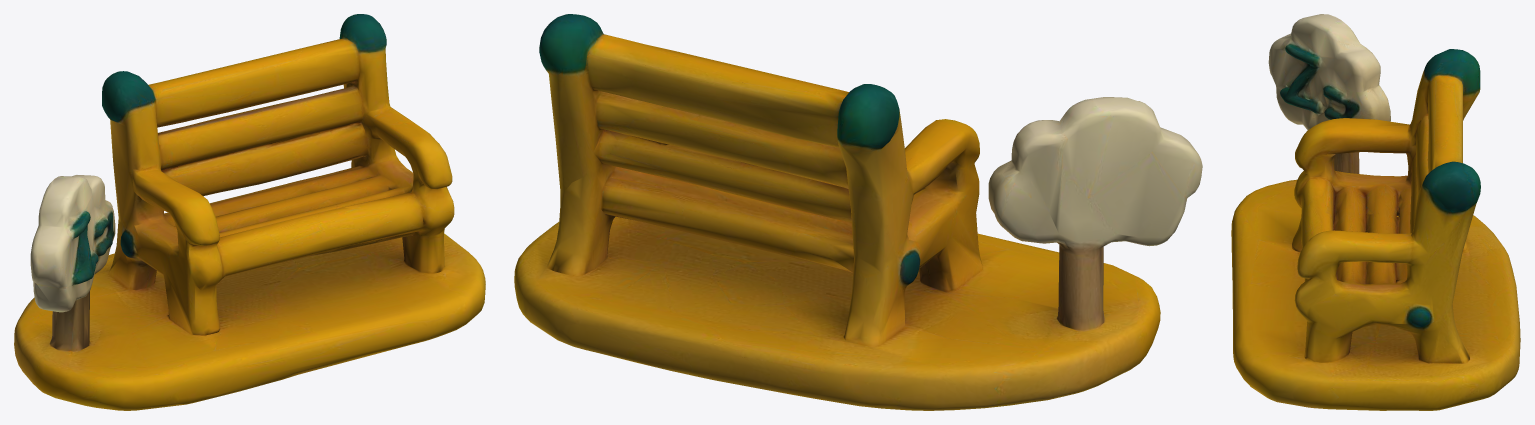
Rendered from icon-rest.glb.
3 renders of one model, left to right at view 1: azimuth 30°, elevation 25°; view 2: azimuth 150°, elevation 25°; view 3: azimuth 270°, elevation 25°, orthographic. The views are drawn at different scales.
Visible parts, largest first — view 1: Mesh_0; view 2: Mesh_0; view 3: Mesh_0.
Boxes of the visible parts, x1=… form: Mesh_0: x1=14, y1=14, x2=485, y2=410; Mesh_0: x1=514, y1=14, x2=1202, y2=410; Mesh_0: x1=1231, y1=14, x2=1520, y2=410.
Bounding box in the file's own units: 2 × 0.9738 × 1.11.
1 material, 1 textured.
